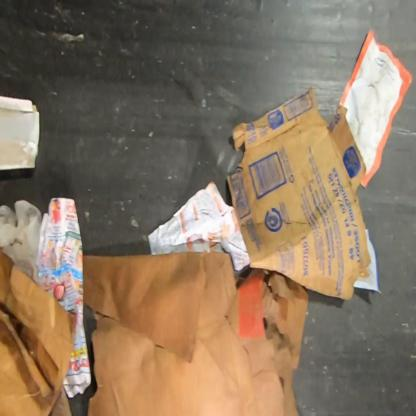cardboard: (225, 86, 372, 301), (0, 247, 79, 415), (0, 94, 40, 171), (48, 386, 73, 415)
